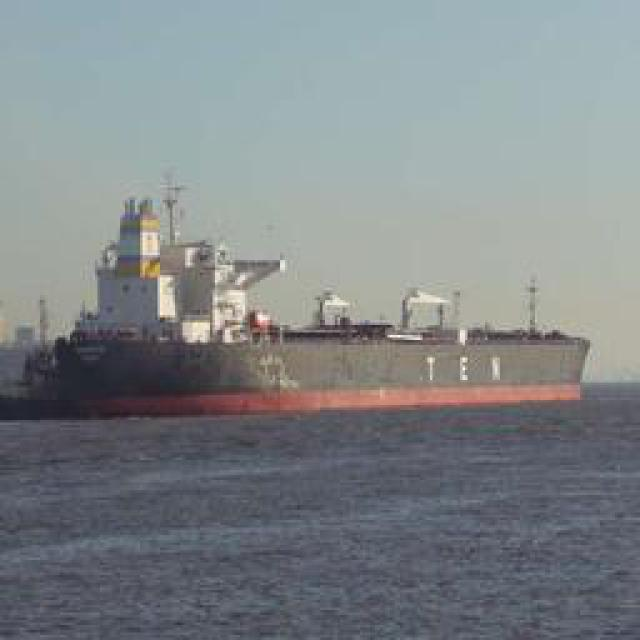Ship: (41, 296, 591, 384)
